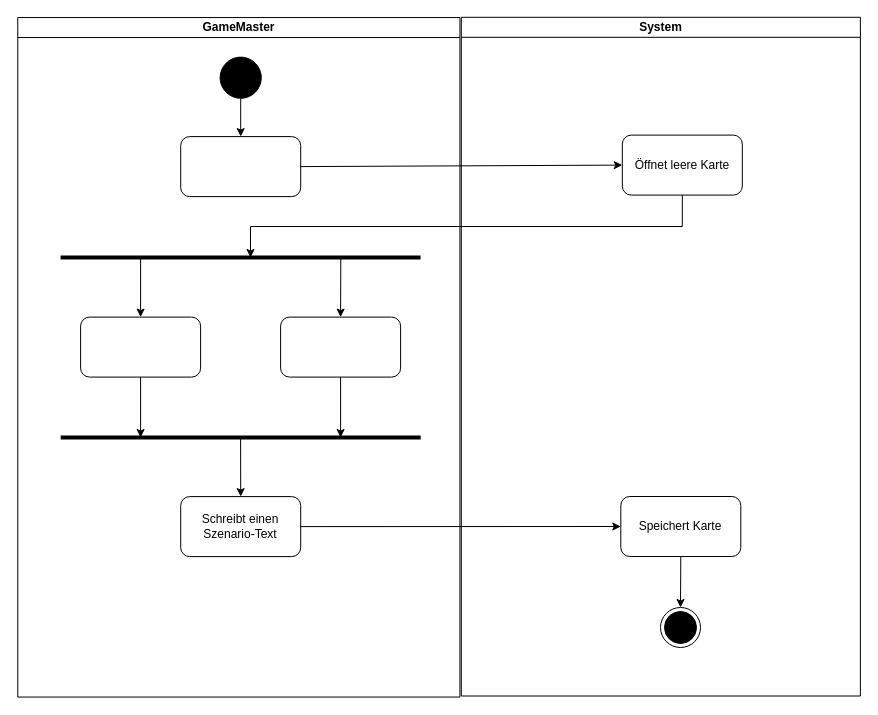
The diagram is 878 pixels wide and 715 high, and some of its shapes have lost their labels. The centre of each missing label's shape, as x and y in pixels:
Legt neue Räume, Gänge und Zugänge an: point (140, 346)
Platziert (Ziel-)Gegenstände, Artefakte und Monster: point (340, 346)
Wählt "Karte erstellen" aus: point (240, 166)
